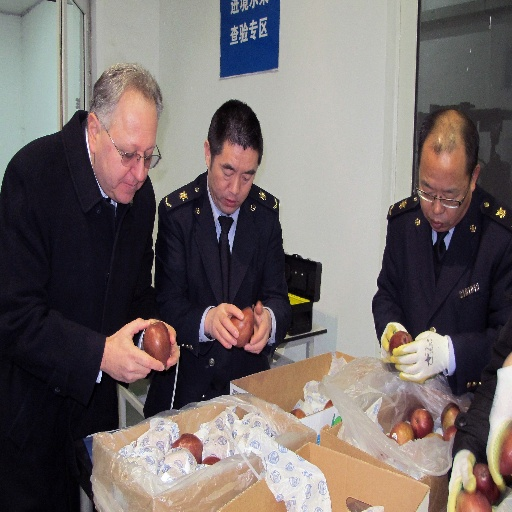hand: (96, 317, 176, 397), (484, 367, 511, 486), (389, 329, 447, 382), (445, 451, 477, 511), (207, 303, 244, 352), (148, 318, 180, 371), (243, 300, 272, 356), (379, 322, 408, 364)
